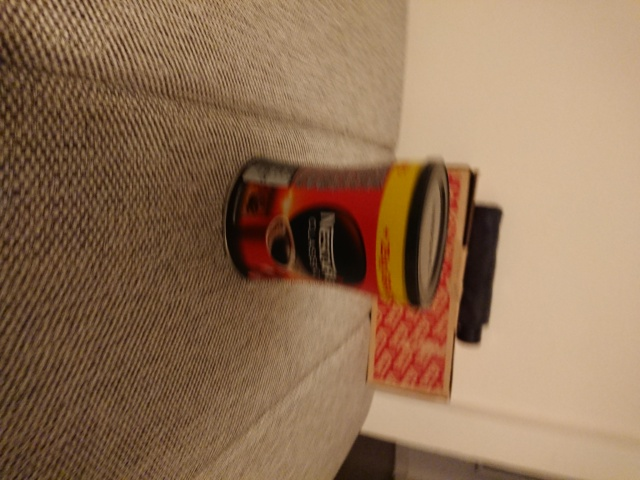Nescafe Classic 225g: (219, 153, 452, 312)
